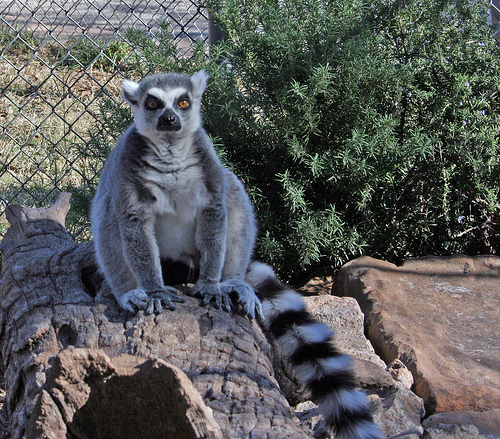cat: (92, 70, 387, 437)
